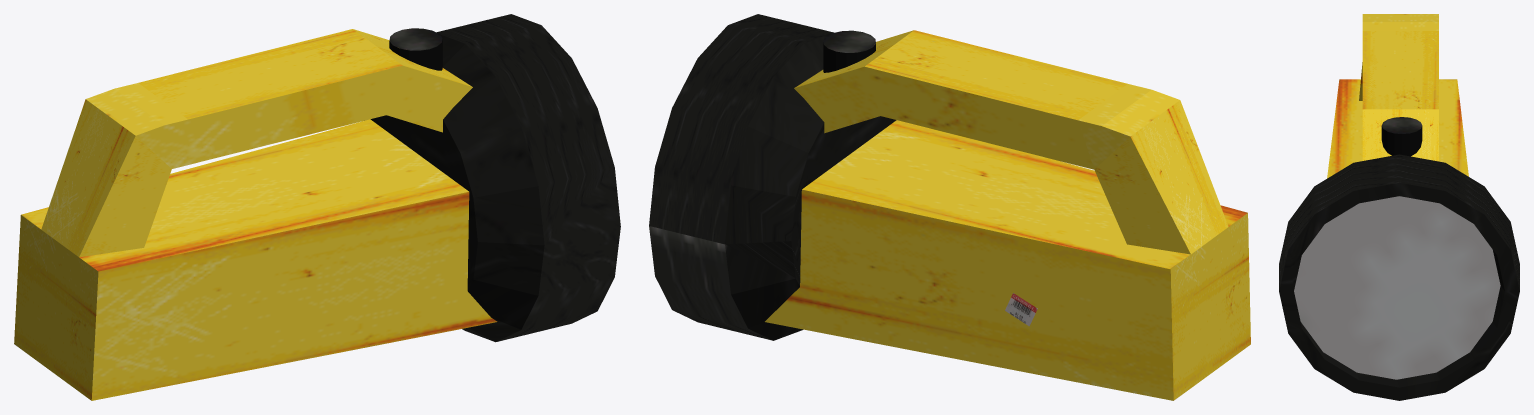
Rendered from lamp.glb.
3 renders of one model, left to right at view 1: azimuth 30°, elevation 25°; view 2: azimuth 150°, elevation 25°; view 3: azimuth 270°, elevation 25°, orthographic. The views are drawn at different scales.
Visible parts, largest first — view 1: Cube, Cilindro; view 2: Cube, Cilindro; view 3: Cilindro, Cube.
Boxes of the visible parts, <box> form: Cube: <box>14,28,497,400</box>; Cilindro: <box>370,14,620,342</box>; Cube: <box>765,30,1250,400</box>; Cilindro: <box>649,14,1037,340</box>; Cilindro: <box>1279,154,1519,400</box>; Cube: <box>1327,14,1468,178</box>.
Bounding box in the file's own units: 0.5757 × 0.3433 × 0.3239.
1 material, 1 textured.
